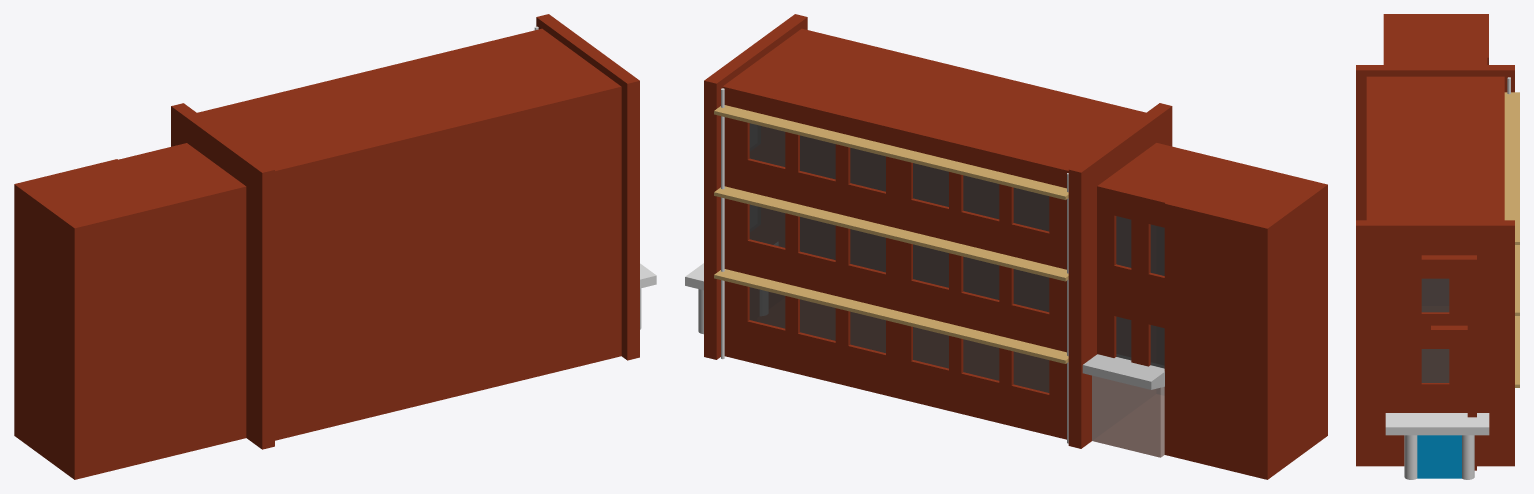
The picture shows the model from 3 angles, left to right: view 1: azimuth 30°, elevation 25°; view 2: azimuth 150°, elevation 25°; view 3: azimuth 270°, elevation 25°; orthographic projection. The views are drawn at different scales.
Visible parts, largest first — view 1: pCube1, pCube2; view 2: pCube1, pCube2, pCube5, pCube6, pCube4, pCube3, pCylinder5; view 3: pCube1, pCube2, pCube7, pCube4, pCube8, pCylinder4, pCylinder3, pCube6, pCube5.
Part boxes in pixels (bbox=[...]): pCube1: bbox=[171, 14, 639, 449]; pCube2: bbox=[14, 143, 246, 479]; pCube1: bbox=[704, 14, 1172, 448]; pCube2: bbox=[1092, 143, 1327, 479]; pCube5: bbox=[714, 186, 1068, 281]; pCube6: bbox=[714, 269, 1068, 363]; pCube4: bbox=[714, 105, 1068, 199]; pCube3: bbox=[1082, 354, 1164, 389]; pCylinder5: bbox=[721, 88, 724, 359]; pCube1: bbox=[1356, 65, 1514, 470]; pCube2: bbox=[1383, 14, 1488, 64]; pCube7: bbox=[1385, 413, 1489, 435]; pCube4: bbox=[1504, 92, 1519, 244]; pCube8: bbox=[1417, 435, 1461, 478]; pCylinder4: bbox=[1404, 435, 1417, 479]; pCylinder3: bbox=[1462, 435, 1474, 479]; pCube6: bbox=[1515, 316, 1519, 387]; pCube5: bbox=[1515, 245, 1519, 315].
Bounding box in the file's own units: 15.82 × 7.17 × 4.42.
